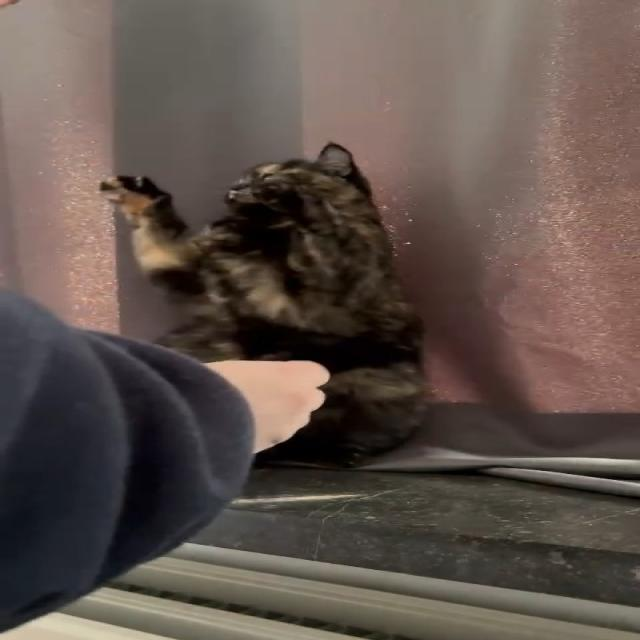authorized: (97, 140, 432, 469)
